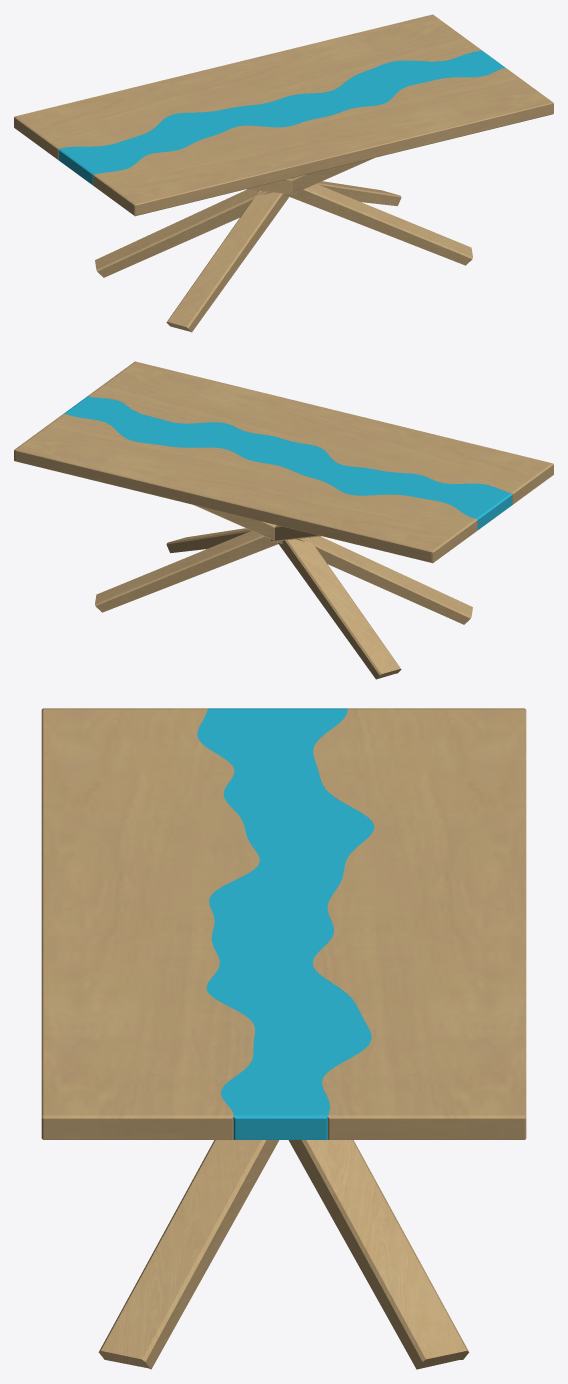
The model's file is rectangular-beech-epoxy-ocean.glb.
3 views of the same model, one above another, from view 1: azimuth 30°, elevation 25°; view 2: azimuth 150°, elevation 25°; view 3: azimuth 270°, elevation 25° (orthographic). The views are drawn at different scales.
Visible parts, largest first — view 1: Wood_Rectangular_EpoxyFar, Wood_Rectangular_EpoxyNear, Base_target, Resin_Rectangular; view 2: Wood_Rectangular_EpoxyNear, Wood_Rectangular_EpoxyFar, Base_target, Resin_Rectangular; view 3: Wood_Rectangular_EpoxyNear, Wood_Rectangular_EpoxyFar, Resin_Rectangular, Base_target.
Boxes of the visible parts, <box> form: Wood_Rectangular_EpoxyFar: <box>93,67,553,216</box>; Wood_Rectangular_EpoxyNear: <box>14,14,481,159</box>; Base_target: <box>95,158,472,332</box>; Resin_Rectangular: <box>58,50,504,185</box>; Wood_Rectangular_EpoxyNear: <box>14,413,477,563</box>; Wood_Rectangular_EpoxyFar: <box>88,361,553,504</box>; Base_target: <box>95,505,472,679</box>; Resin_Rectangular: <box>64,396,512,529</box>; Wood_Rectangular_EpoxyNear: <box>312,708,526,1139</box>; Wood_Rectangular_EpoxyFar: <box>41,708,259,1139</box>; Resin_Rectangular: <box>197,708,374,1139</box>; Base_target: <box>98,1140,469,1369</box>.
Bounding box in the file's own units: 2.13 × 0.762 × 1.07.
2 materials, 1 textured.
